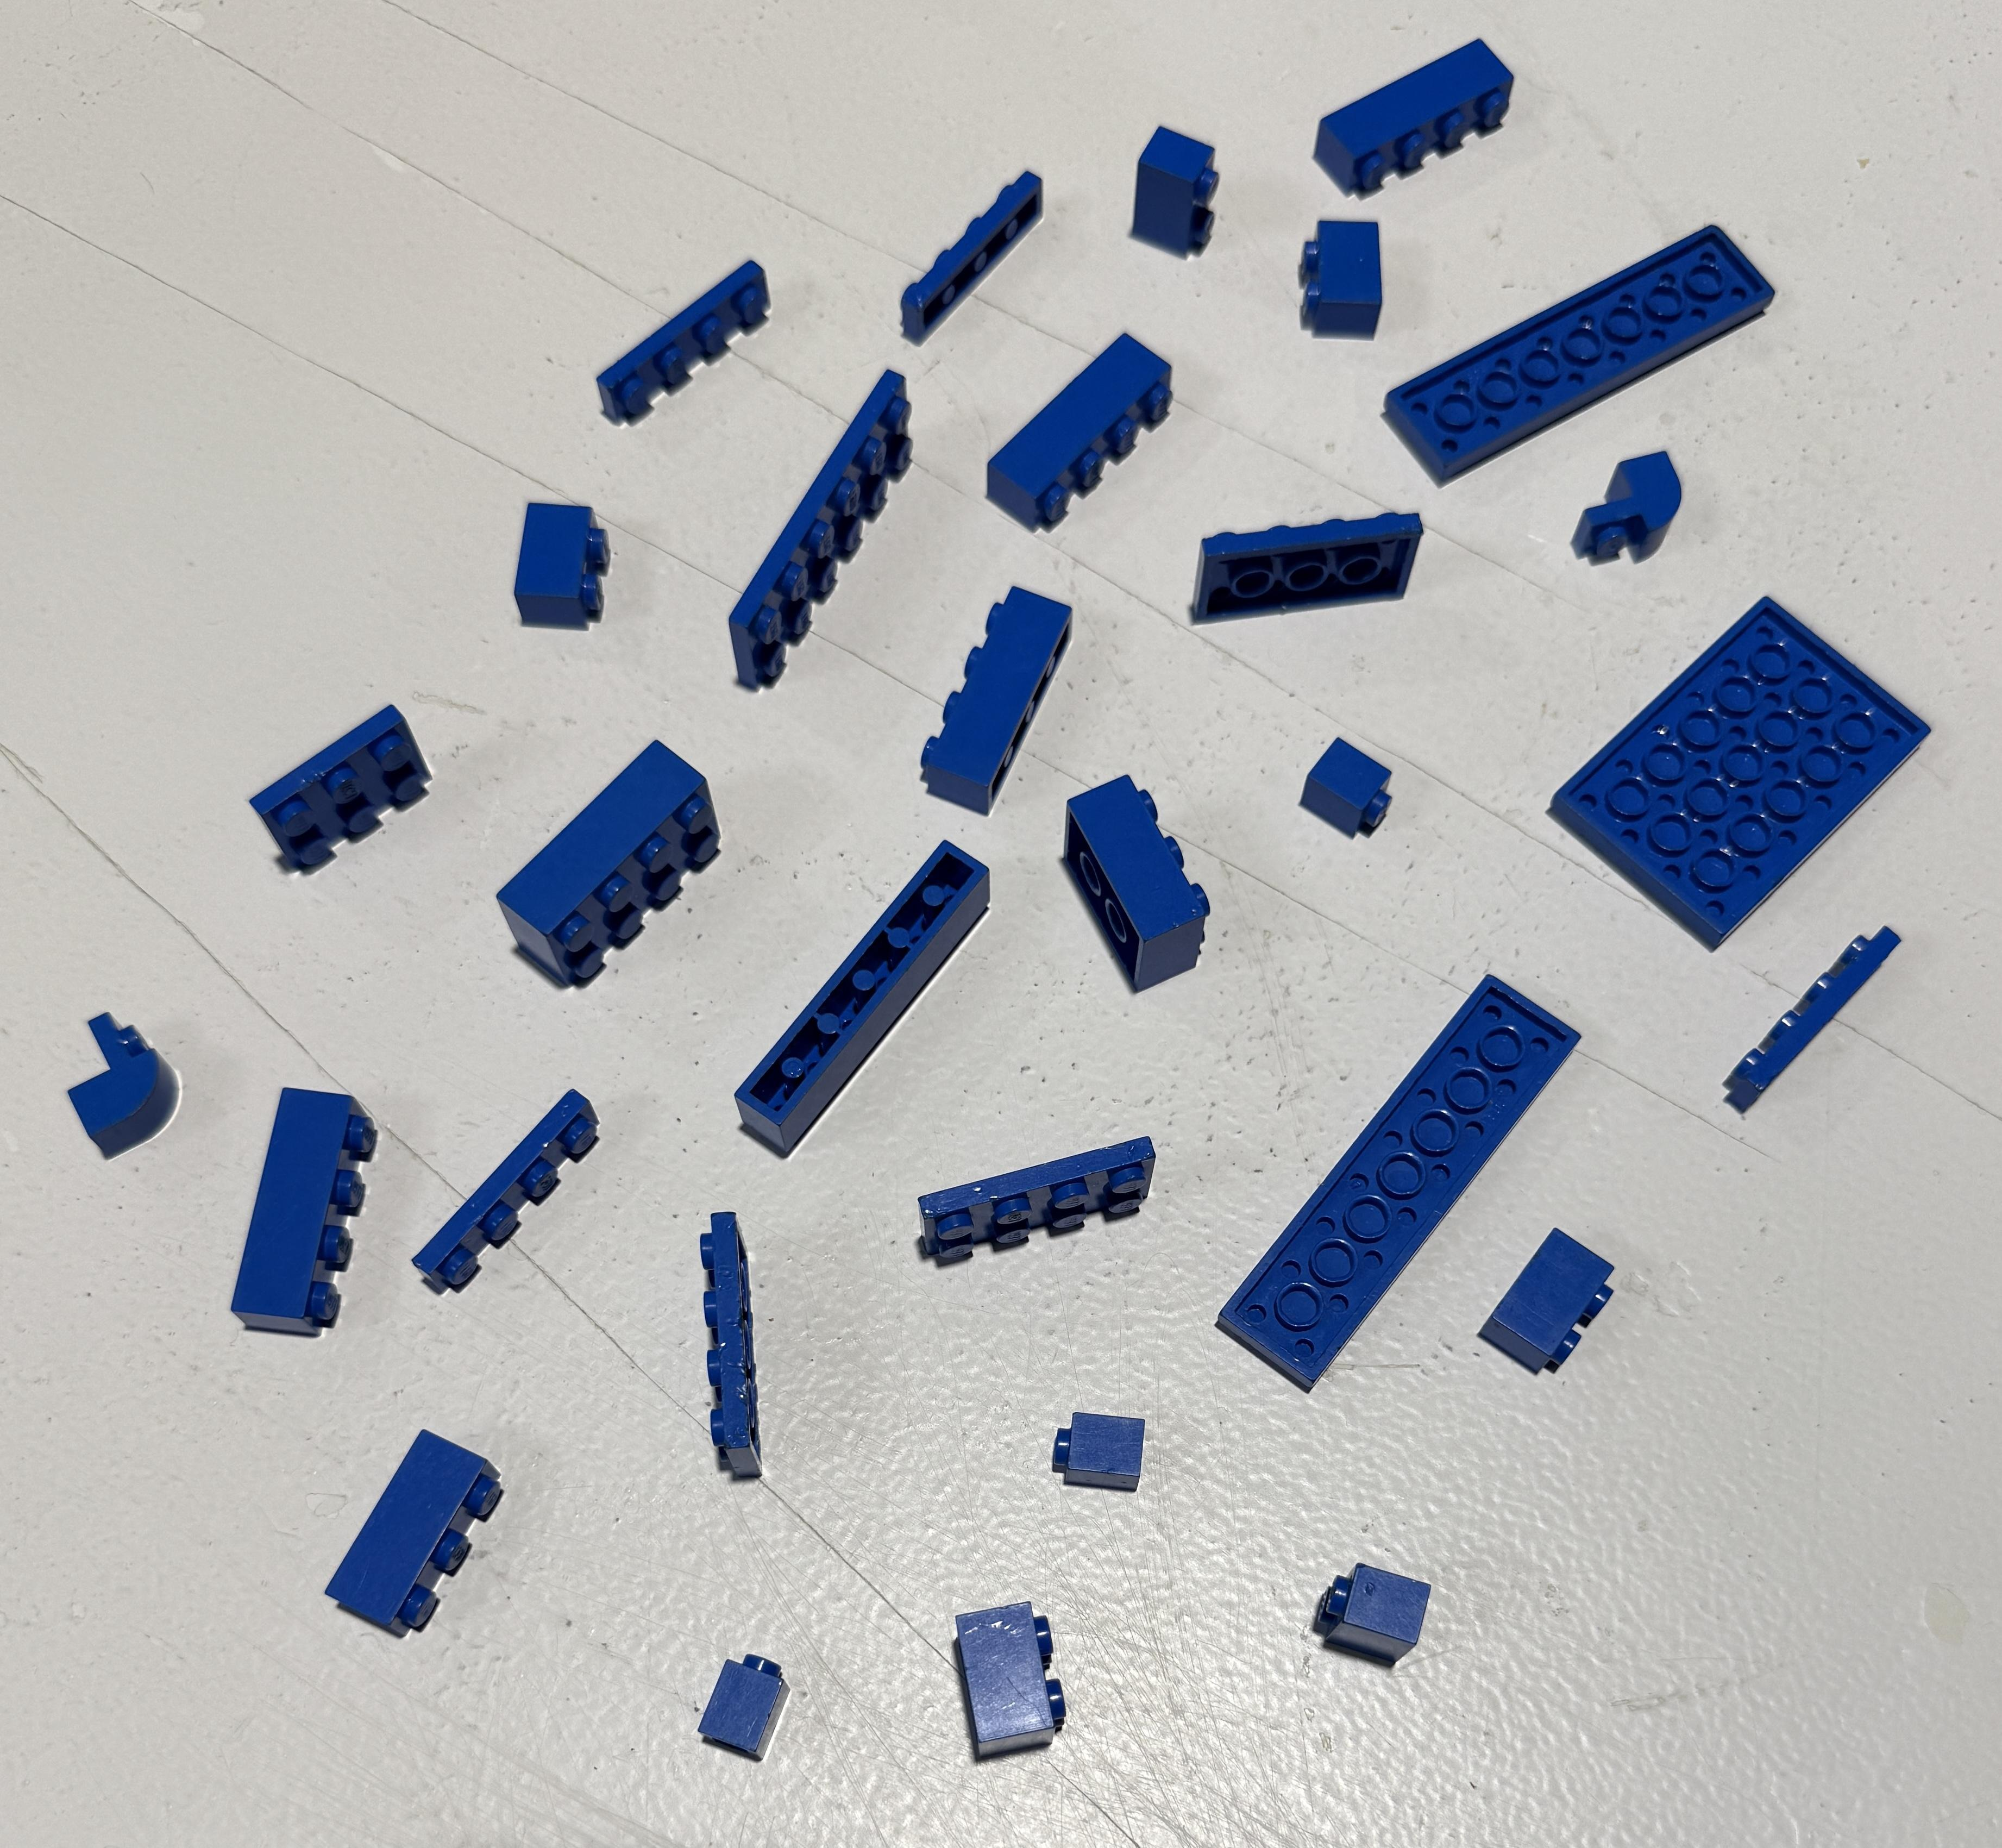brick_1x1: (1024, 1384, 1175, 1517), (1301, 1546, 1442, 1667), (691, 1625, 806, 1770), (1280, 710, 1395, 847)
brick_1x2: (900, 1566, 1107, 1797), (1437, 1199, 1651, 1403), (1280, 185, 1423, 380), (1109, 105, 1250, 279), (497, 471, 635, 635)
brick_1x3: (293, 1414, 548, 1661)
brick_1x4: (204, 1050, 391, 1372), (954, 289, 1189, 542), (1268, 3, 1561, 202)
brick_2x3: (1027, 751, 1252, 1001)
brick_2x4: (476, 715, 743, 1016)
